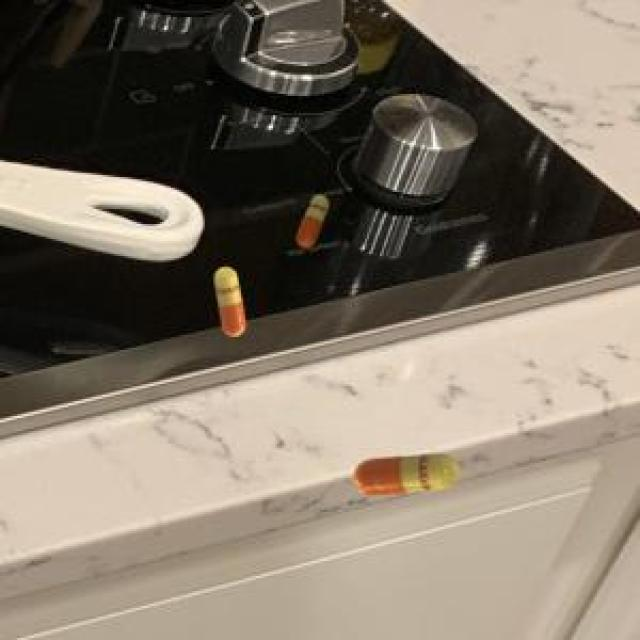Alaxan: (349, 450, 462, 504), (210, 262, 255, 344), (289, 193, 340, 258)
